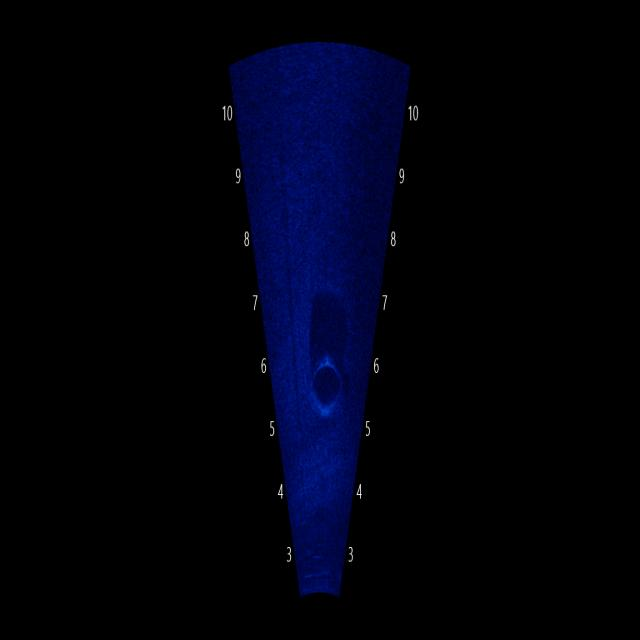circle: (305, 347, 350, 423)
